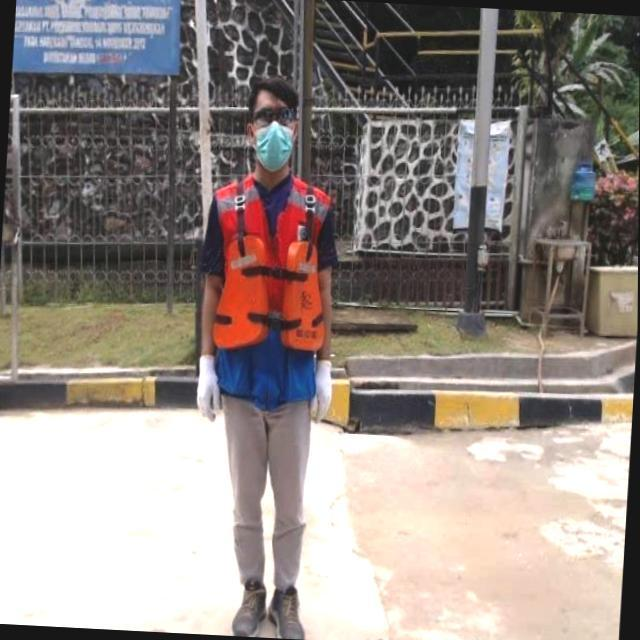goggles_on: (247, 103, 300, 129)
